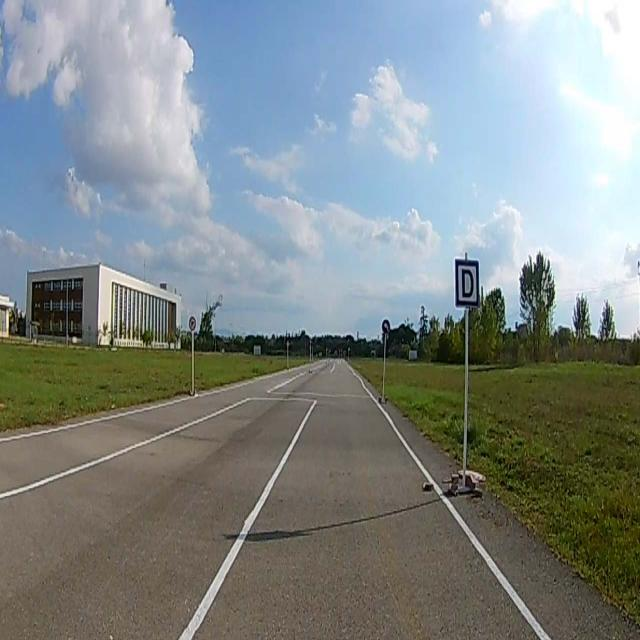durak: (456, 259, 480, 306)
sol: (382, 319, 390, 333)
